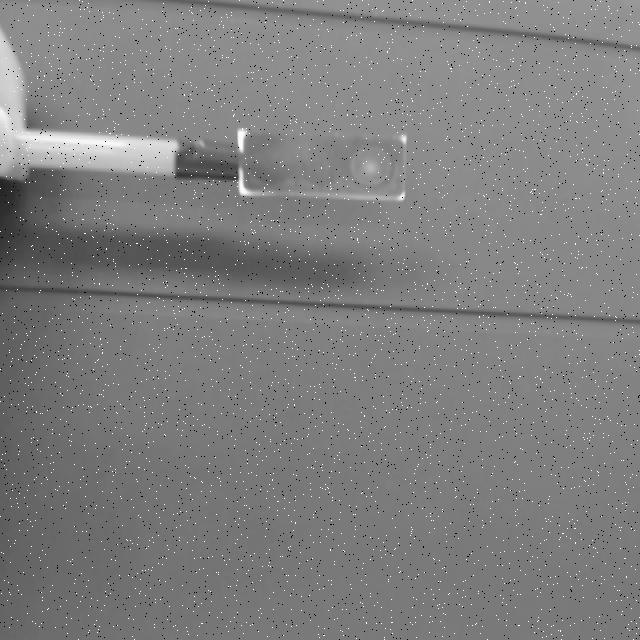traffic light: (234, 120, 411, 211)
